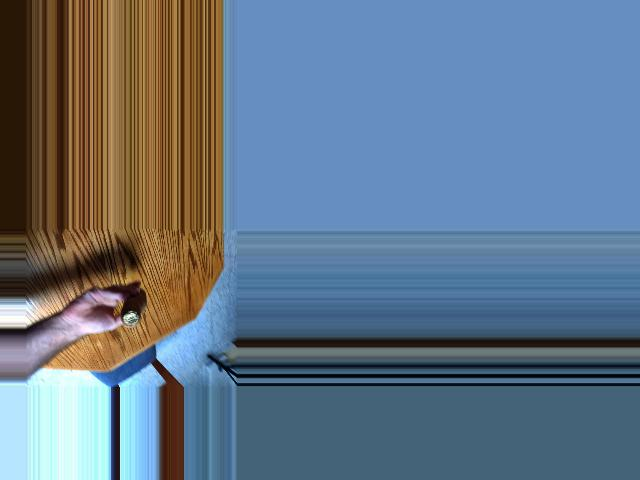sweet_potato: (114, 287, 147, 332)
